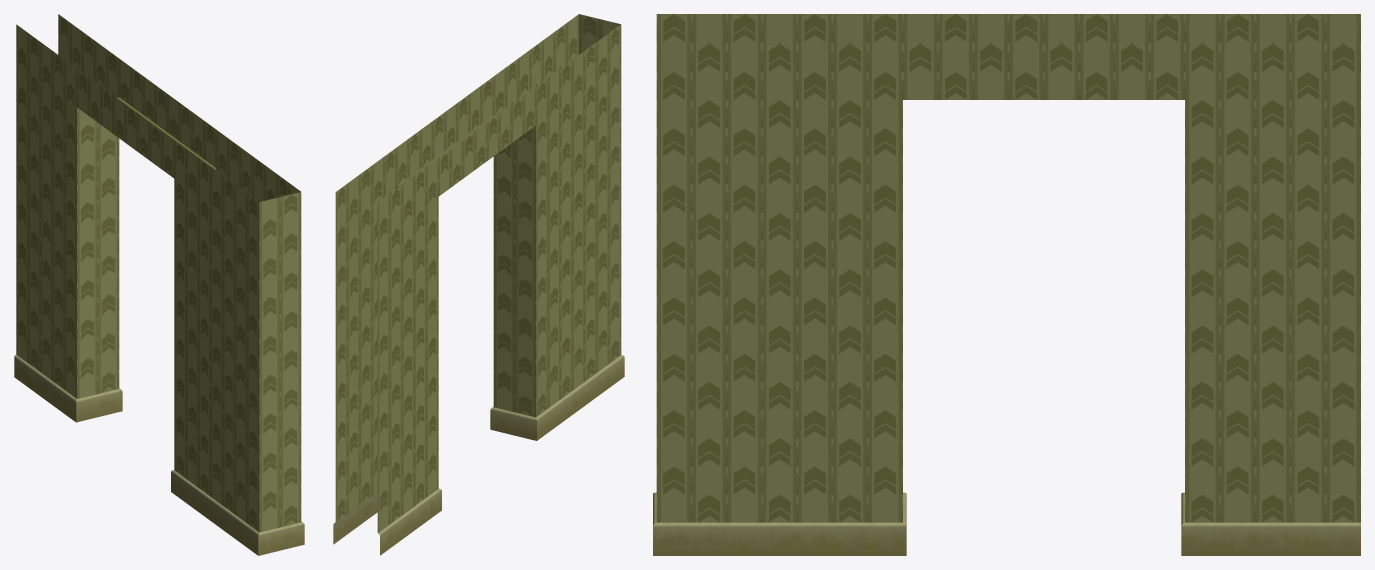
Rendered from WallLeftCutLeftWithHole.fbx.
The picture shows the model from 3 angles, left to right: view 1: azimuth 30°, elevation 25°; view 2: azimuth 150°, elevation 25°; view 3: azimuth 270°, elevation 25°; orthographic projection. The views are drawn at different scales.
Parts seen in each view (by area): view 1: WallLeftCutLeftWithHole; view 2: WallLeftCutLeftWithHole; view 3: WallLeftCutLeftWithHole.
Boxes of the visible parts, x1,y1,x2,y2 form: WallLeftCutLeftWithHole: (14, 14, 304, 555); WallLeftCutLeftWithHole: (333, 14, 624, 555); WallLeftCutLeftWithHole: (653, 14, 1360, 555).
Bounding box in the file's own units: 55 × 400 × 502.
